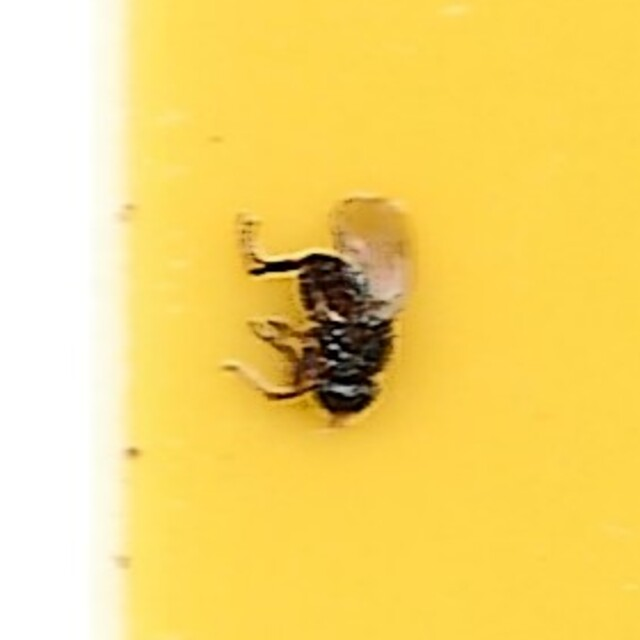Brachycera: (229, 204, 411, 436)
